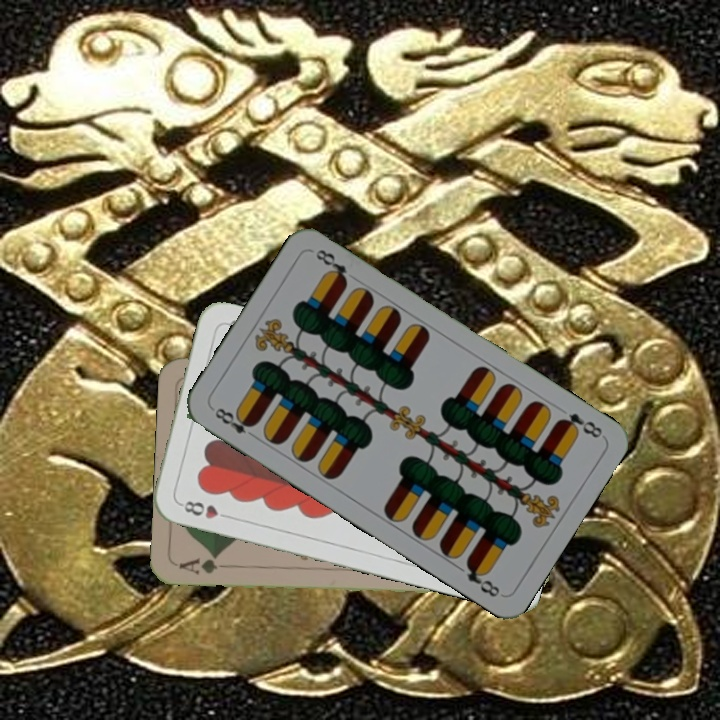E8: (210, 403, 260, 442), (553, 409, 605, 441)
GA: (175, 551, 233, 577)
H8: (176, 496, 234, 522)
